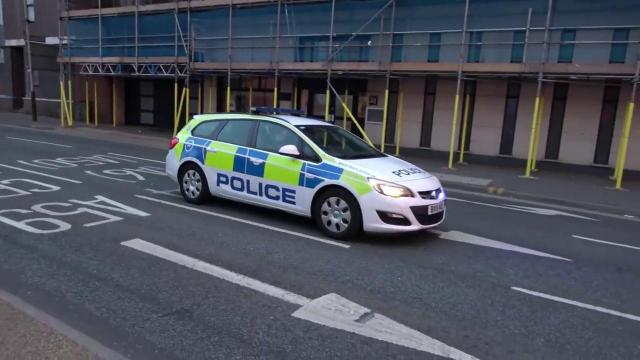police: (162, 111, 451, 233)
